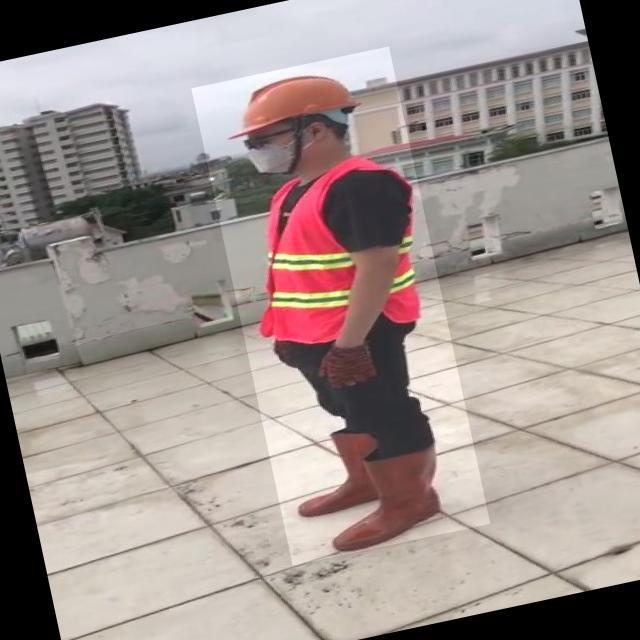Gloves: (313, 339, 380, 392)
Helmet: (217, 60, 363, 141)
Human: (191, 46, 490, 565)
Safety Boot: (319, 446, 453, 553), (287, 425, 387, 518)
Safety Vest: (237, 152, 433, 354)
